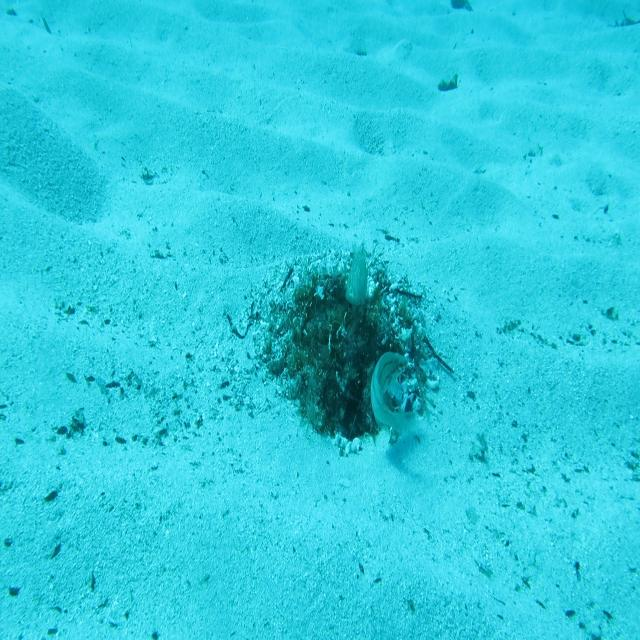NIP_CORE: (343, 240, 371, 307)
core_nest: (318, 287, 363, 341)
female: (368, 348, 421, 448)
nest: (244, 240, 448, 476)
vegetation: (436, 75, 460, 94)
